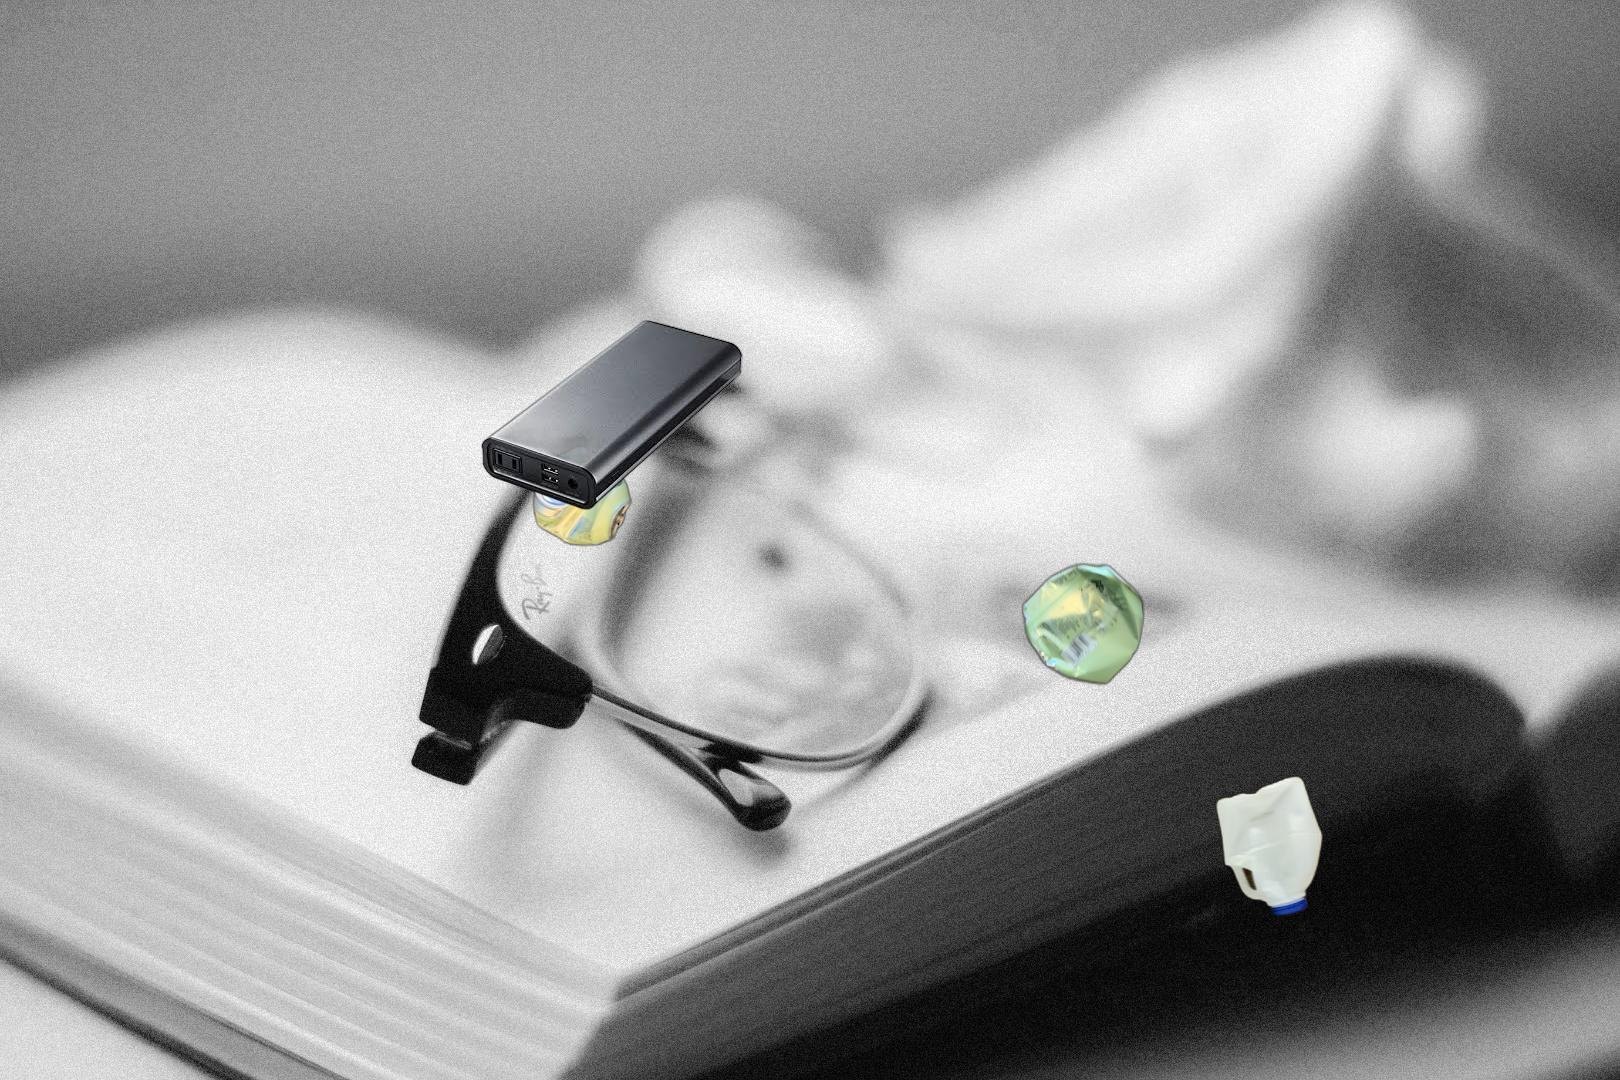battery: (480, 319, 742, 511)
metal-cans: (1017, 557, 1149, 689), (529, 440, 635, 552)
plastic-bottles: (1211, 769, 1327, 922)
